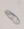microplastic: (5, 10, 20, 25)
